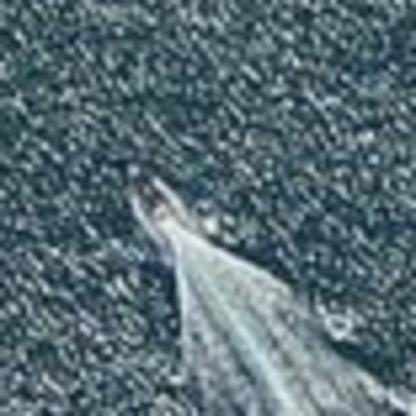ship: (111, 166, 204, 250)
